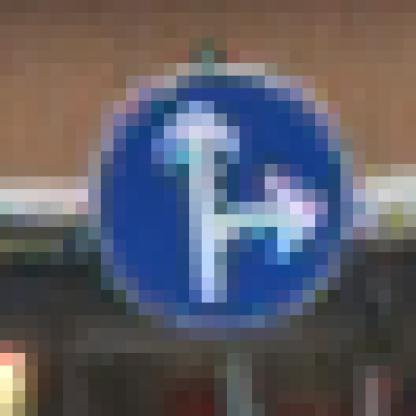Straight or Right: (64, 64, 354, 354)
